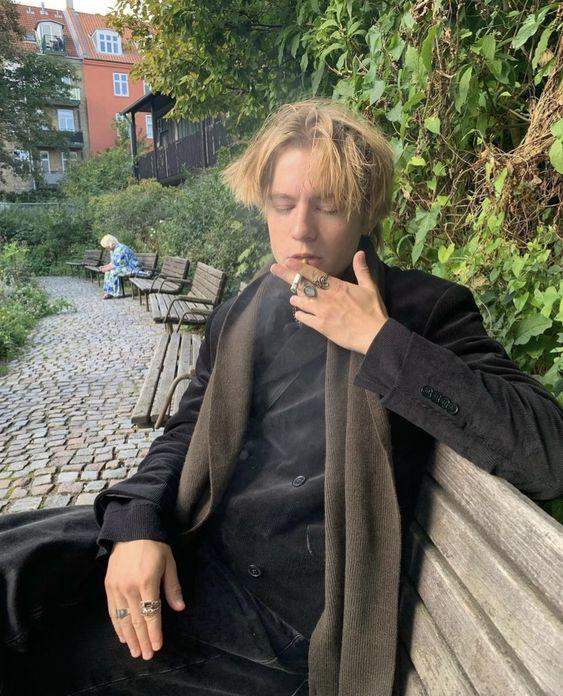cigarette: (290, 258, 309, 293)
